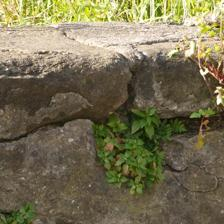Crack: (0, 36, 106, 110), (12, 57, 107, 89), (34, 19, 94, 52)
